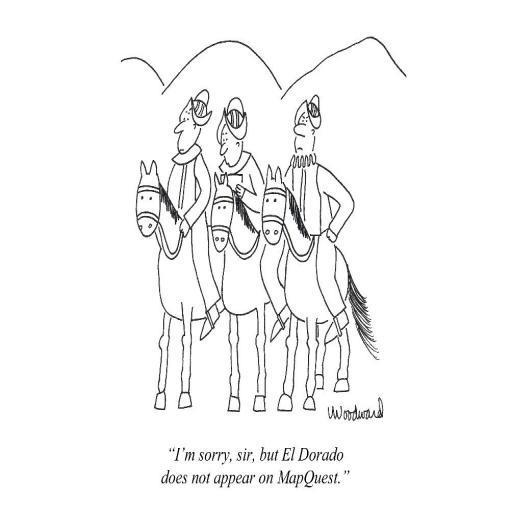horse: (259, 162, 380, 412), (133, 160, 225, 411), (210, 170, 272, 414)
